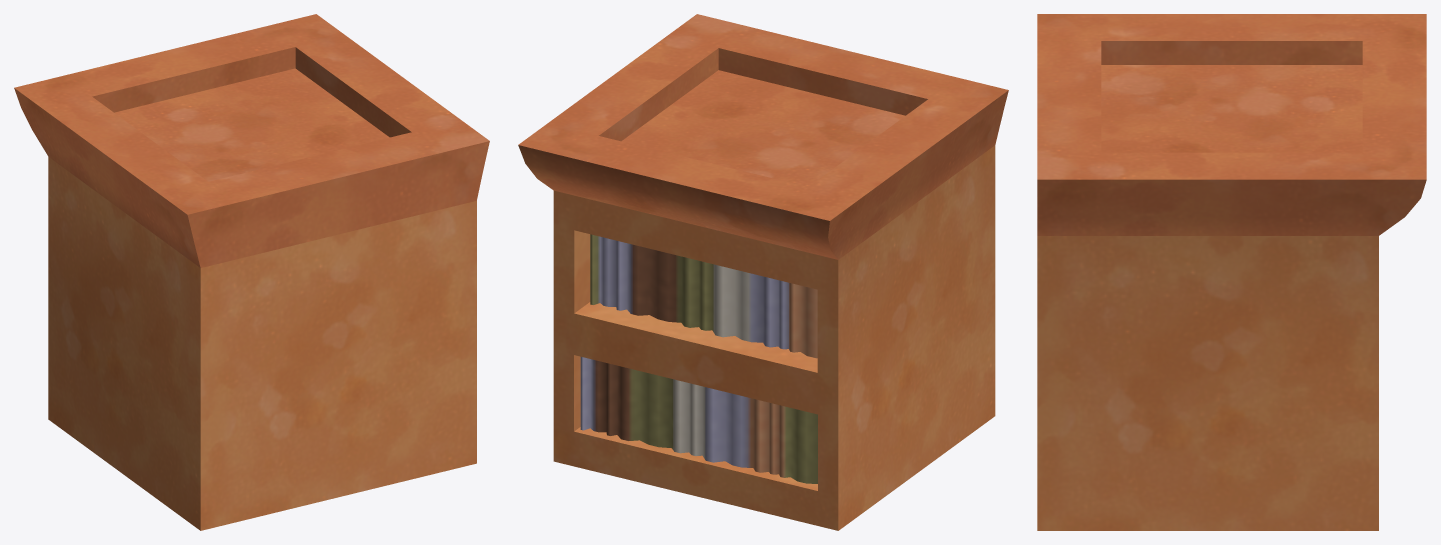
File: SM_Library_01.fbx
3 views of the same model, side by side, from view 1: azimuth 30°, elevation 25°; view 2: azimuth 150°, elevation 25°; view 3: azimuth 270°, elevation 25° (orthographic). The views are drawn at different scales.
Visible parts, largest first — view 1: SM_Library_01; view 2: SM_Library_01; view 3: SM_Library_01.
Part boxes in pixels (<box>): SM_Library_01: <box>14,14,489,530</box>; SM_Library_01: <box>518,14,1008,530</box>; SM_Library_01: <box>1037,14,1426,530</box>.
Size of the model in its own units: 98.83 by 99.73 by 98.24.
